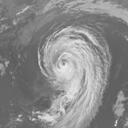cyclone: (37, 24, 108, 99)
